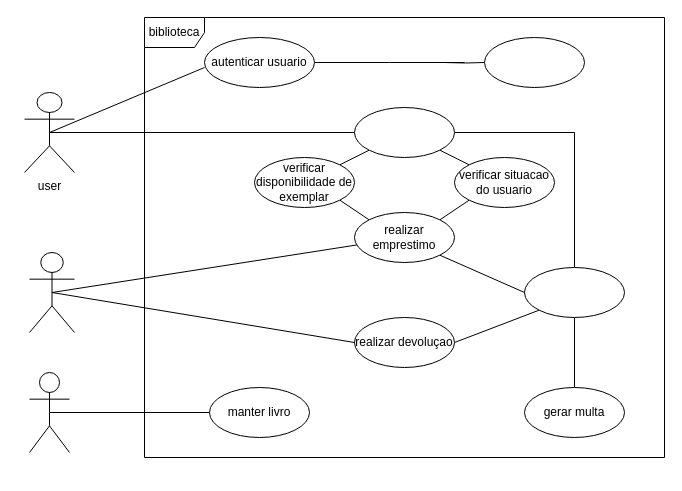
Some shapes in this 682 by 491 pixel diagram are drawn without their labels. Here are the shapes that lost their labels. From the top down, the box of each, then its label:
(484, 36, 584, 88): recuperar senha
(354, 106, 454, 158): Renovar emprestimo
(28, 252, 74, 332): funcionario
(524, 266, 624, 318): gerar comprovante
(28, 372, 70, 452): bibliotecario
